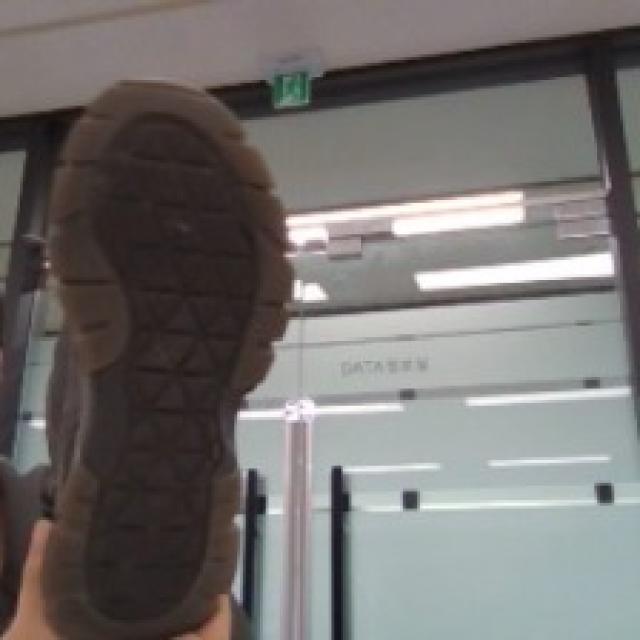shoe: (40, 74, 301, 640)
